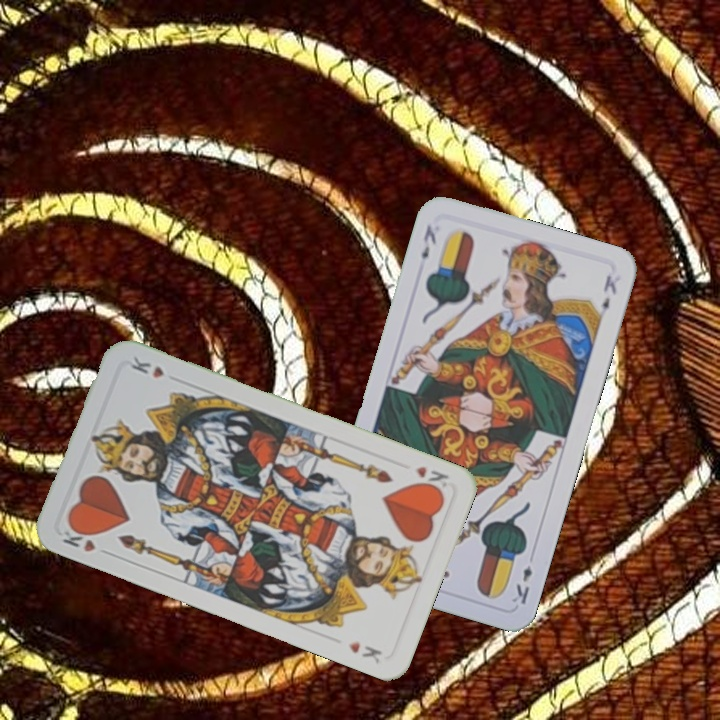EK: (508, 561, 535, 607), (417, 220, 439, 262)
HK: (57, 521, 103, 555), (411, 462, 452, 495)
